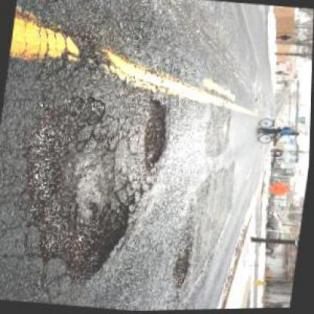Hueco: (8, 86, 154, 288), (140, 95, 174, 174), (171, 236, 197, 290)
